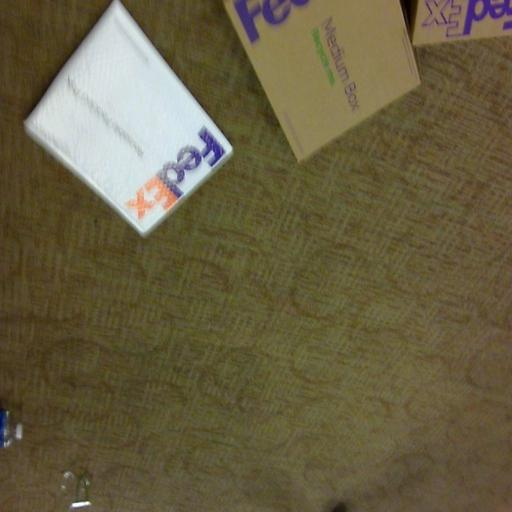Amazon: (37, 6, 230, 242), (216, 0, 422, 163), (410, 0, 512, 68)
